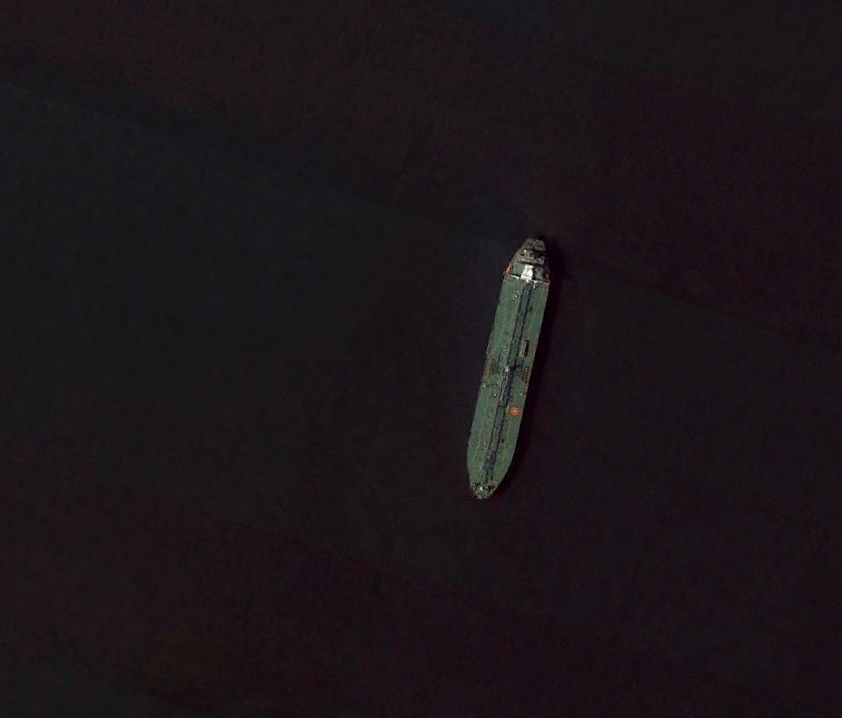boat: (461, 236, 555, 502)
